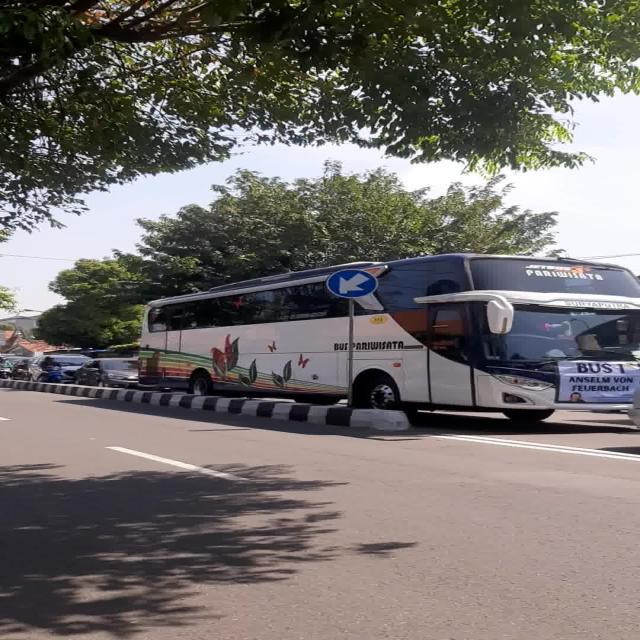Lajur Kiri: (326, 268, 378, 298)
